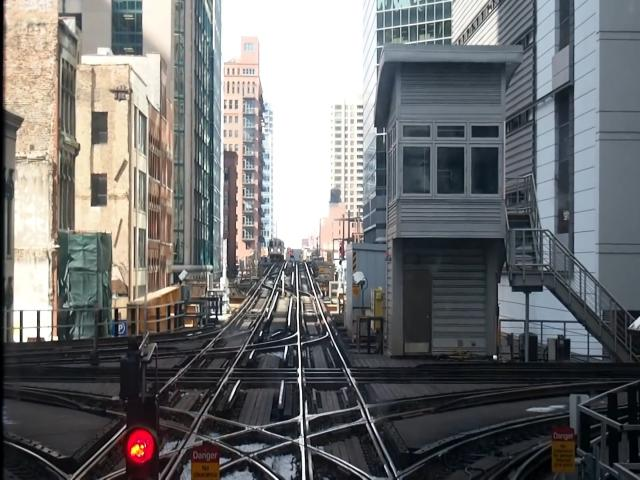signal light: (123, 391, 160, 480)
